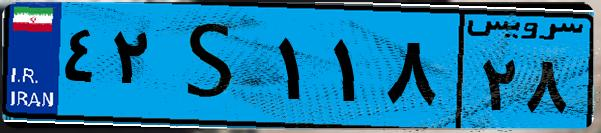1: (270, 28, 330, 110), (330, 28, 385, 110)
2: (475, 38, 525, 113), (110, 28, 158, 98)
4: (57, 26, 110, 100)
8: (385, 28, 445, 110), (525, 38, 570, 115)
S: (158, 12, 270, 120)
